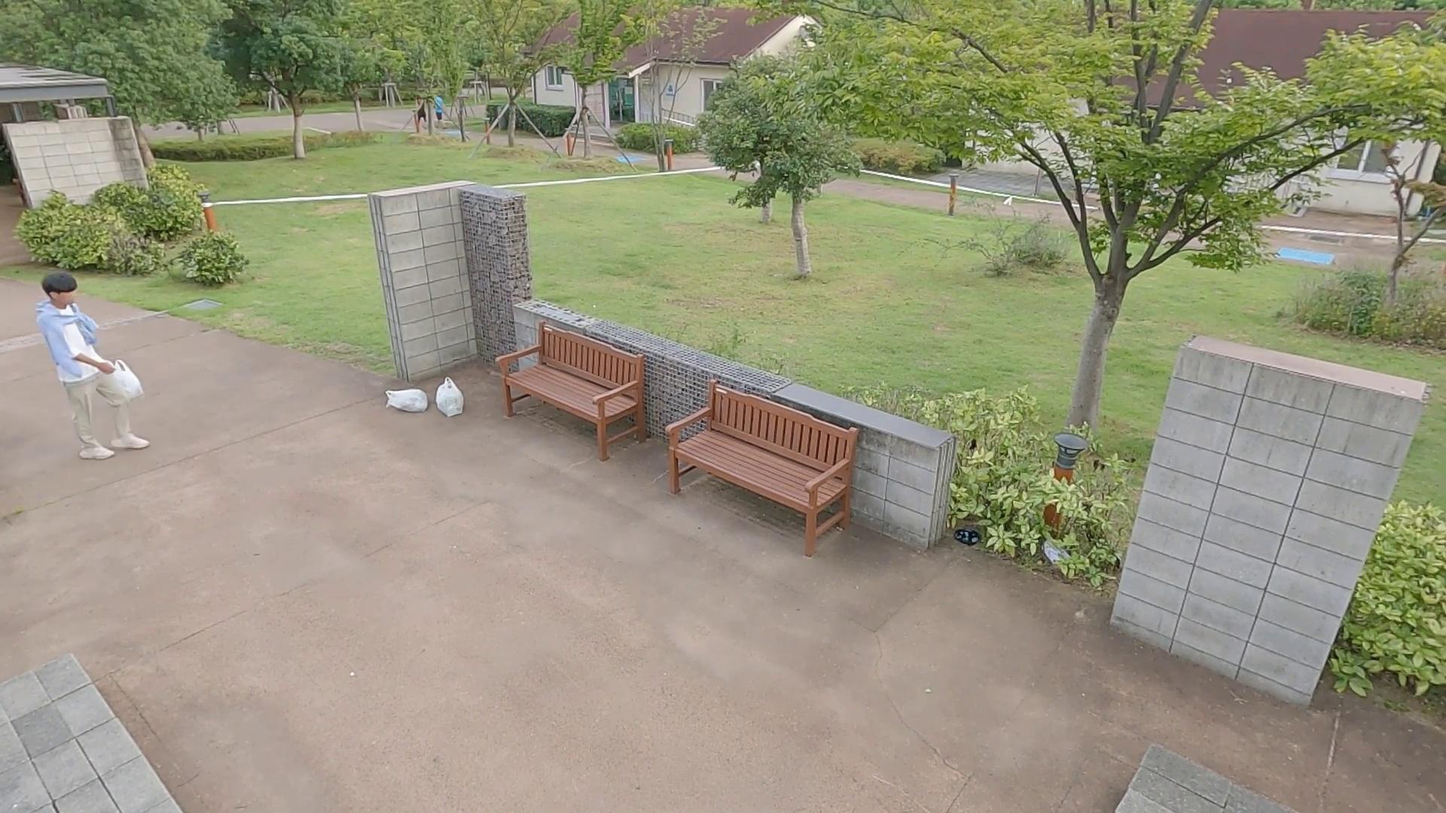person: (30, 269, 153, 465)
trash: (432, 369, 478, 426), (101, 353, 146, 408), (385, 380, 435, 423)
